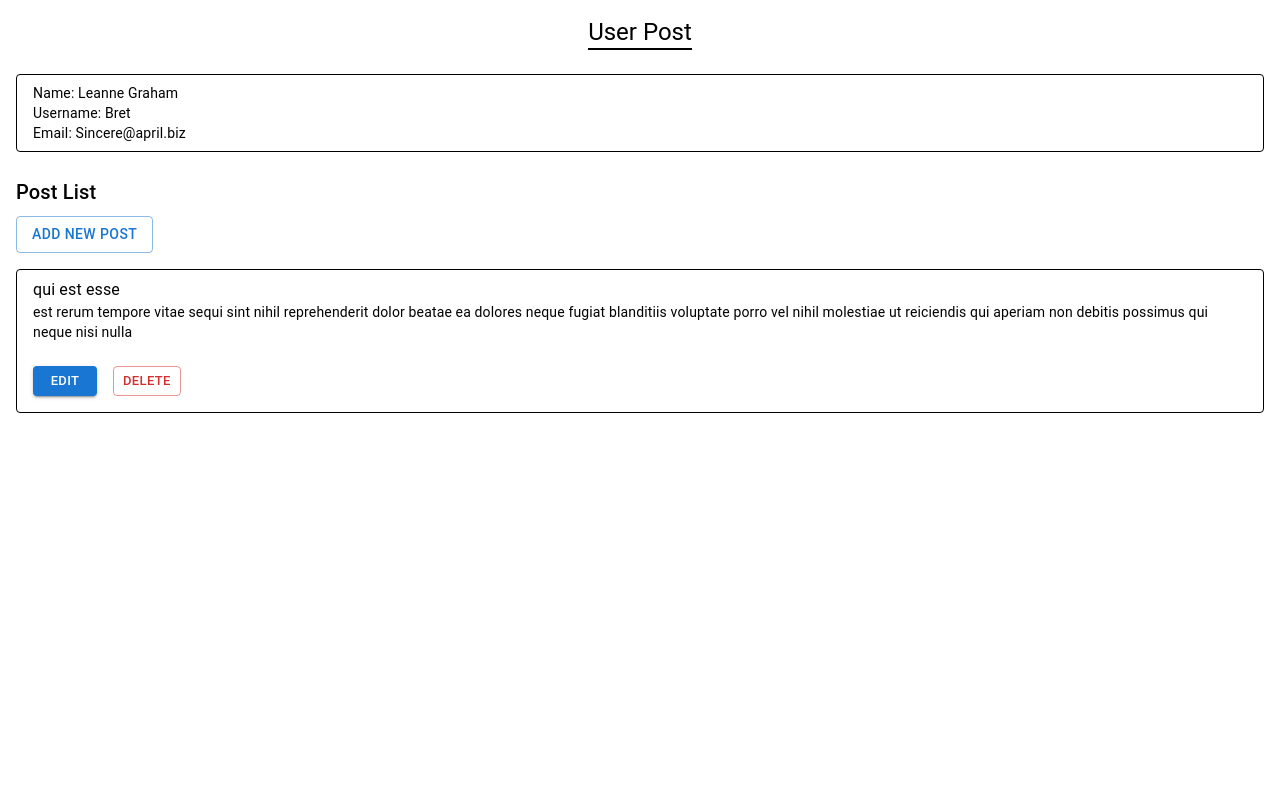
User post screen › Delete post
Expected: the text "qui est esse" is shown, 33,280 -> 120,299
Click the button "Delete" at (147, 381), box 113,366 -> 181,396
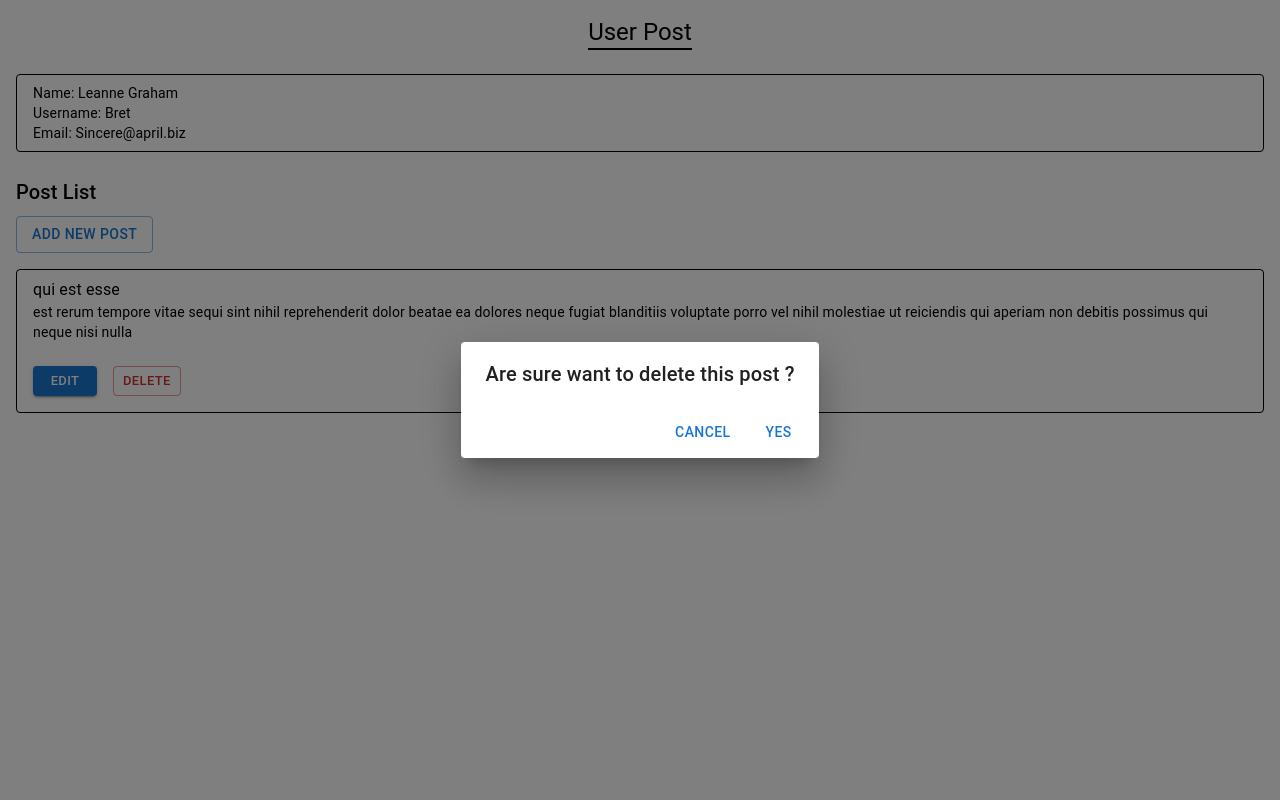
Now the heading "Are sure want to delete this post ?" is shown, box 485,362 -> 794,386
Click the button "Yes" at (779, 432), box 747,414 -> 811,450
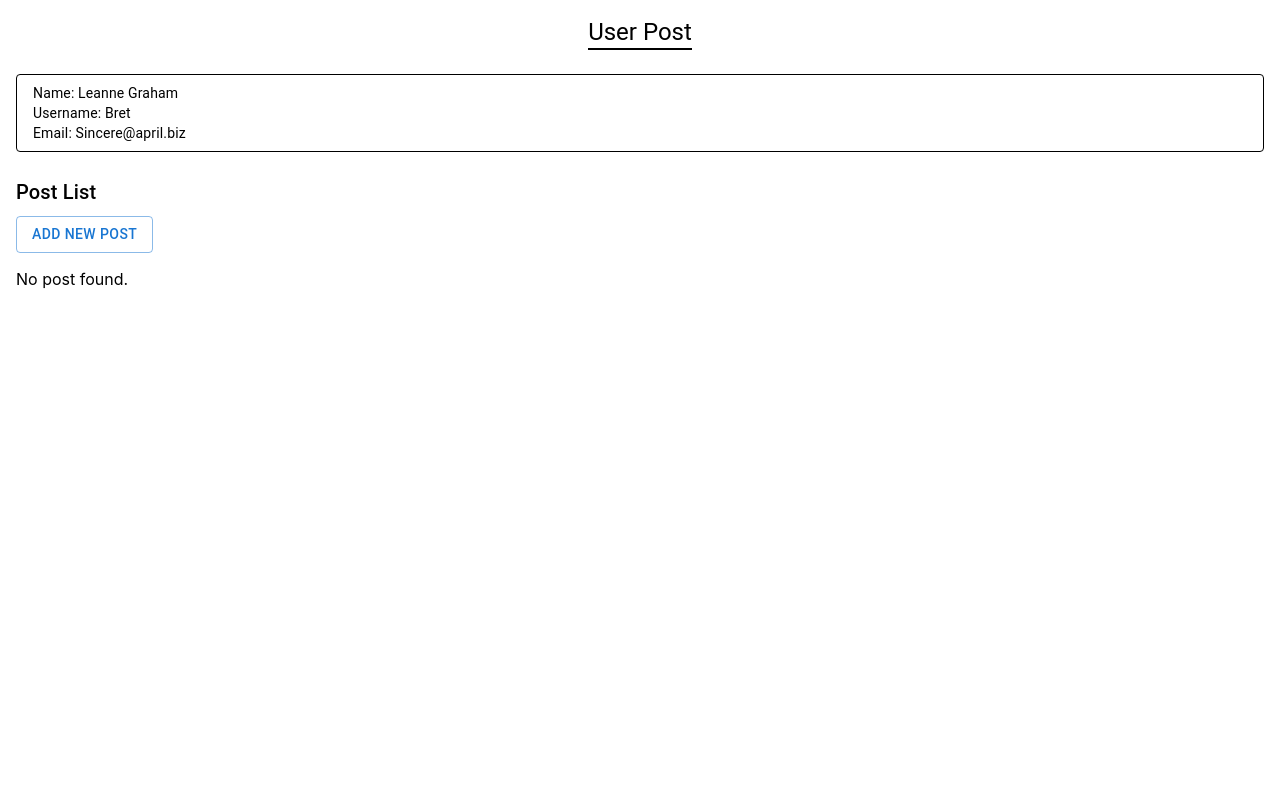
Now the text "No post found." is shown, box 16,269 -> 128,289
